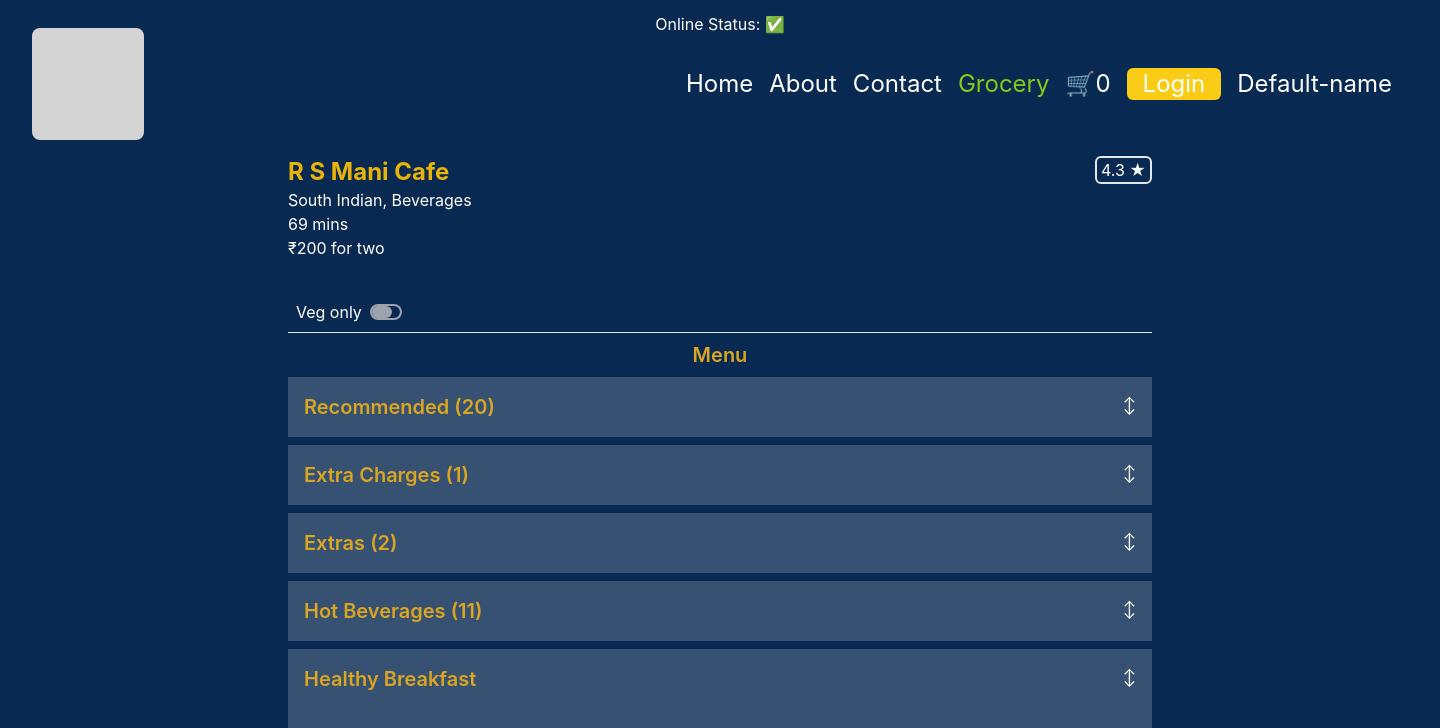
Scenario: should render the R S Mani Cafe menu with functionable add btn and cart › should reflect the items in the cart
Expected: the link "🛒0" is shown, [1066,69,1111,98]
Click the heading "Recommended (20)". click: click(399, 407)
box: [304,393,495,421]
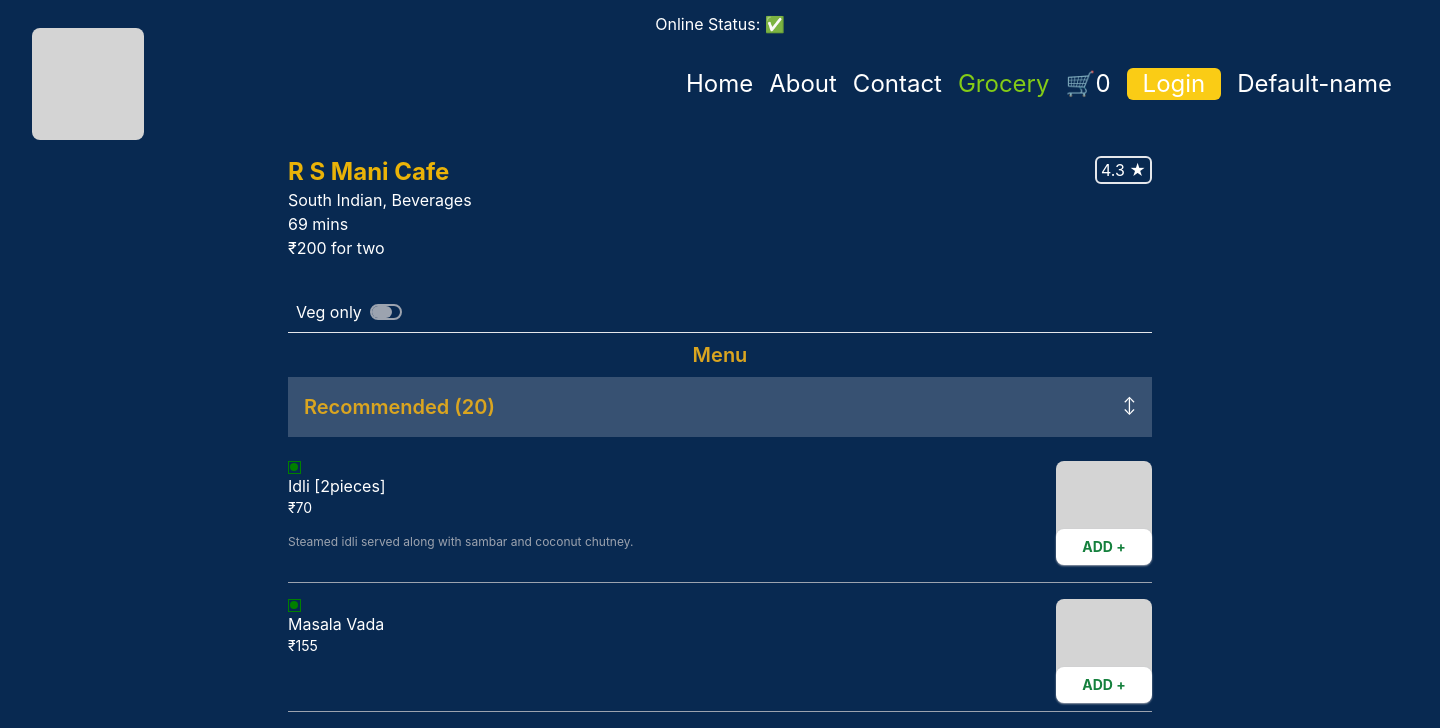
Click the 1st button "ADD +". click: click(1104, 547)
box: [1074,537,1134,557]
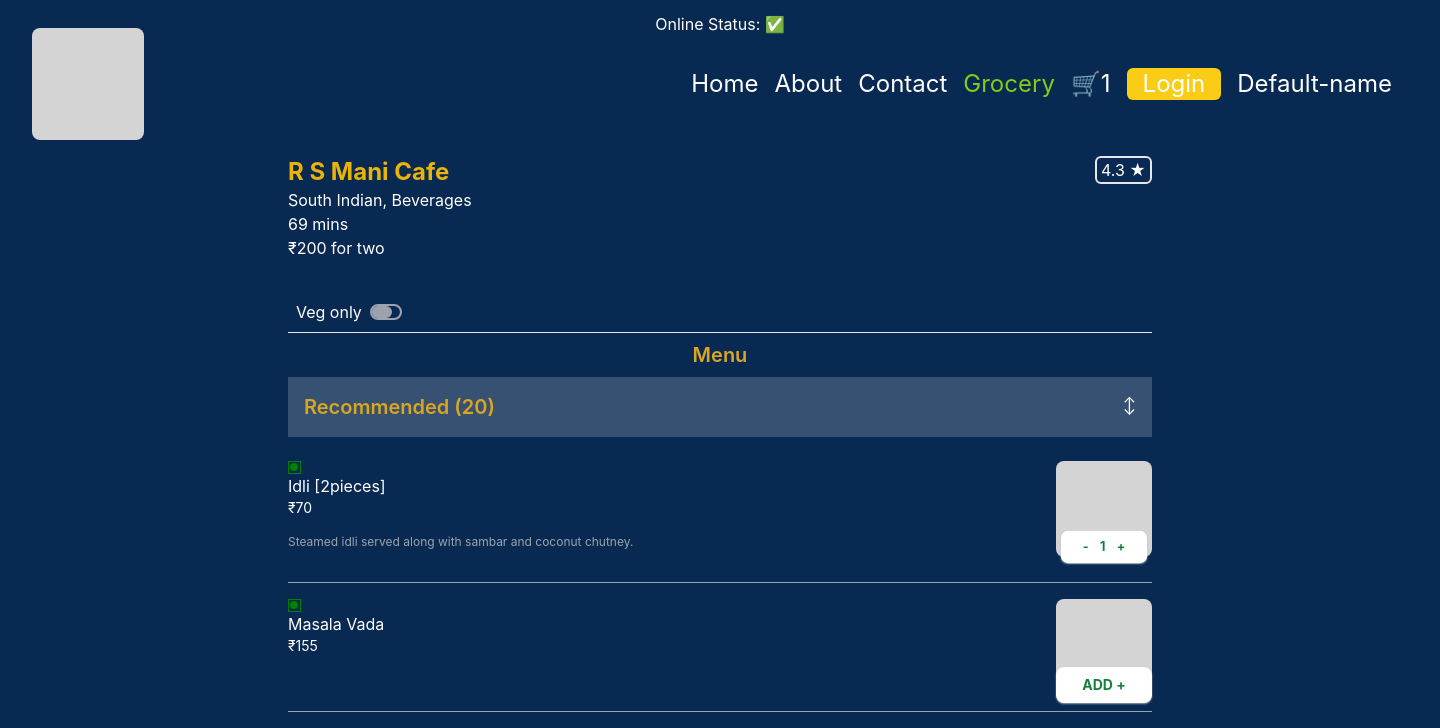
Click the 1st button "ADD +". click: click(1104, 685)
box: [1074,675,1134,695]
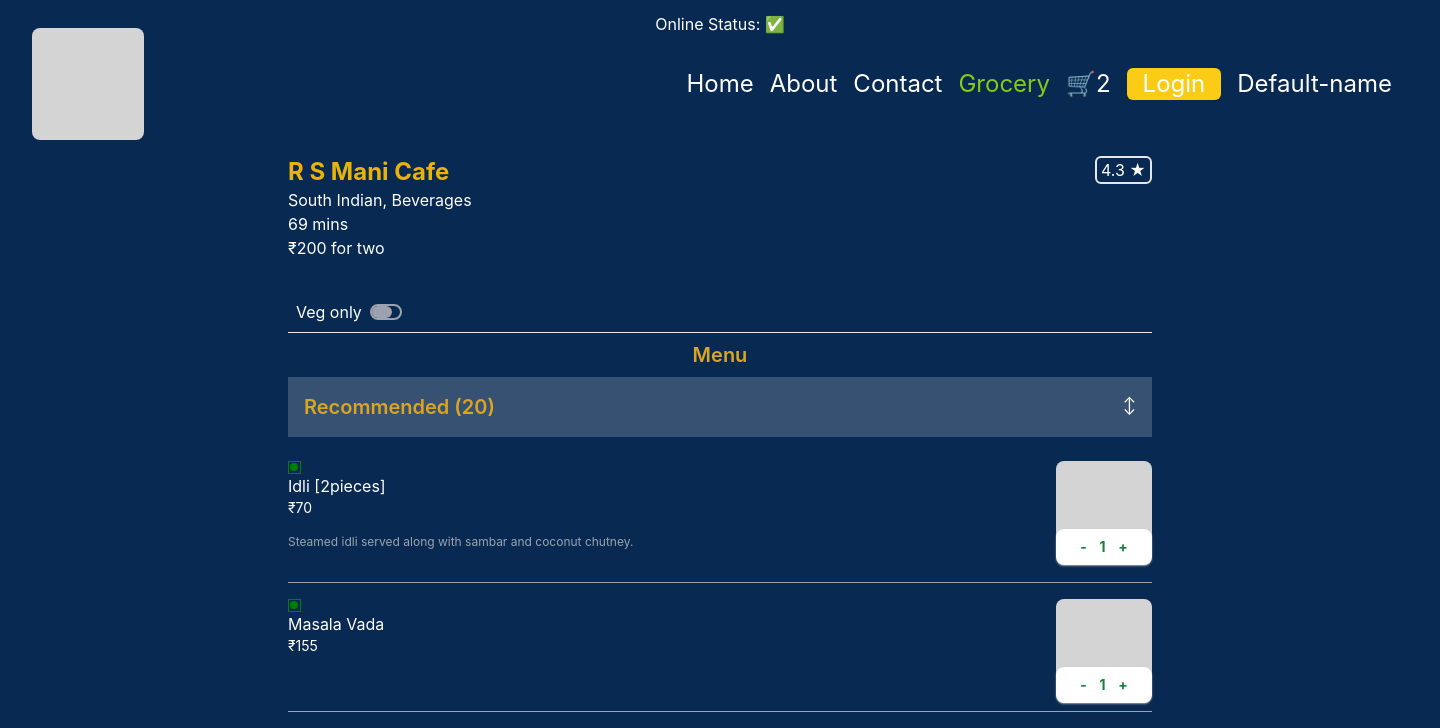
Expected: the number of elements with test id "foodItems" is 22
